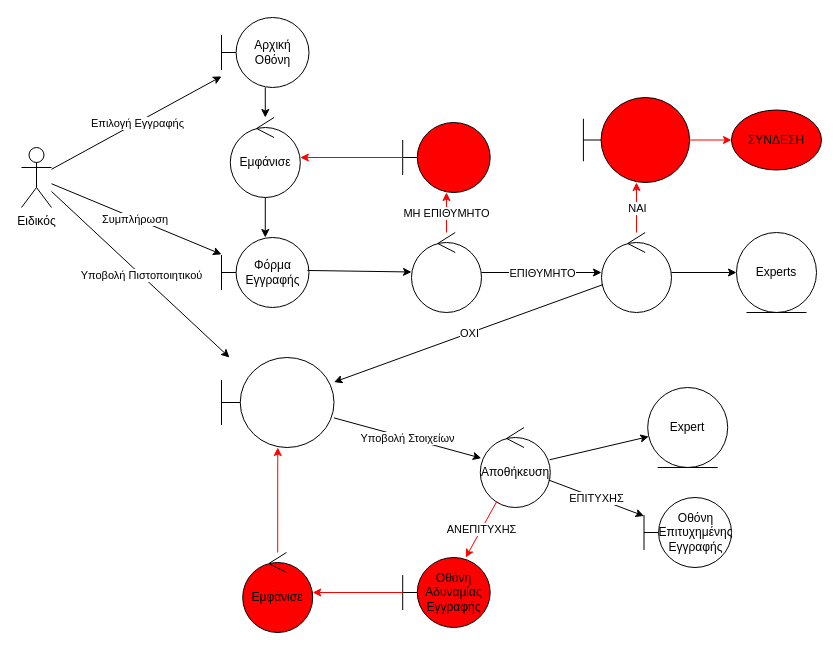
The diagram is 839 pixels wide and 650 high, and some of its shapes have lost their labels. The centre of each missing label's shape, as x and y in pixels:
"Έλεγχος μορφής e-mail" belongs at point 446,272.
"Οθόνη έγγεγραμμένου χρήστη" belongs at point 636,139.
"Οθόνη Λανθασμένου e-mail" belongs at point 446,157.
"Οθόνη Υποβολή Πιστοποιητικού" belongs at point 277,402.
"Υπάρχει ήδη εγγραφή;" belongs at point 636,272.
